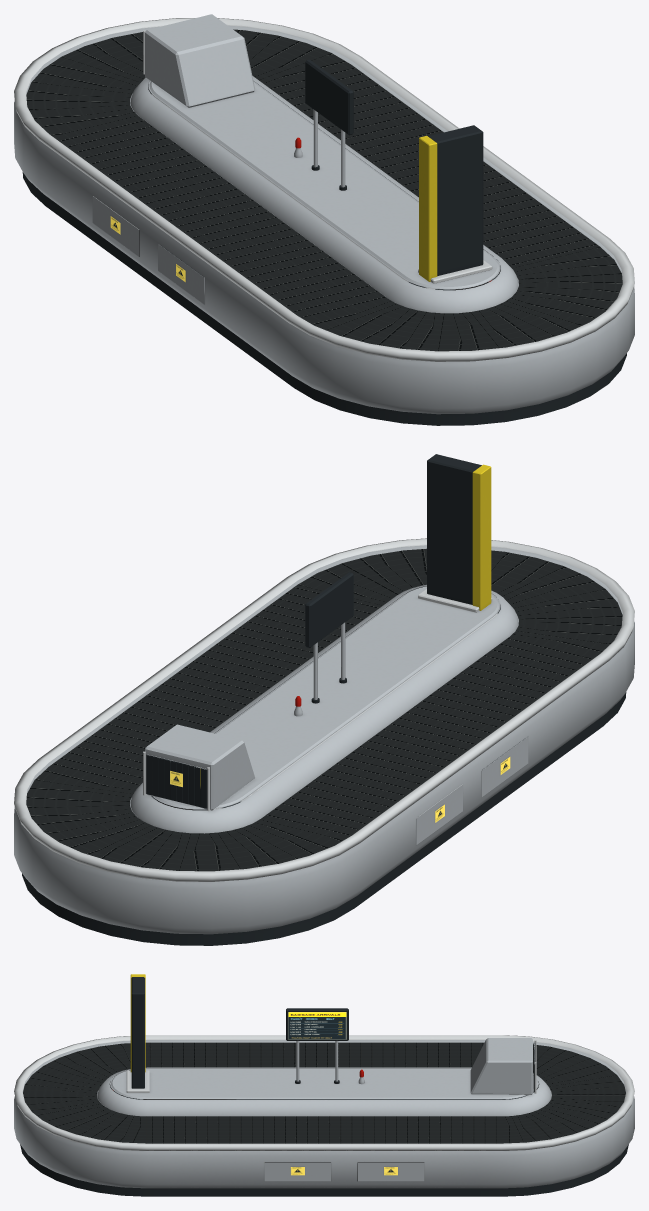
File: airport_carousel.glb
3 views of the same model, one above another, from view 1: azimuth 30°, elevation 25°; view 2: azimuth 150°, elevation 25°; view 3: azimuth 270°, elevation 25° (orthographic). The views are drawn at different scales.
Visible parts, largest first — view 1: airport_carousel_Body, CarouselBelt; view 2: airport_carousel_Body, CarouselBelt; view 3: airport_carousel_Body, CarouselBelt, PrintedGraphics.
Part boxes in pixels (left/top/right/bottom): airport_carousel_Body: left=14, top=14, right=634, bottom=425; CarouselBelt: left=26, top=29, right=622, bottom=351; airport_carousel_Body: left=14, top=454, right=634, bottom=945; CarouselBelt: left=26, top=548, right=622, bottom=871; airport_carousel_Body: left=14, top=974, right=634, bottom=1196; CarouselBelt: left=23, top=1042, right=625, bottom=1143; PrintedGraphics: left=288, top=1012, right=397, bottom=1175.
Size of the model in its own units: 3.01 by 1.97 by 7.
Materials: 3 (3 with a texture image).
